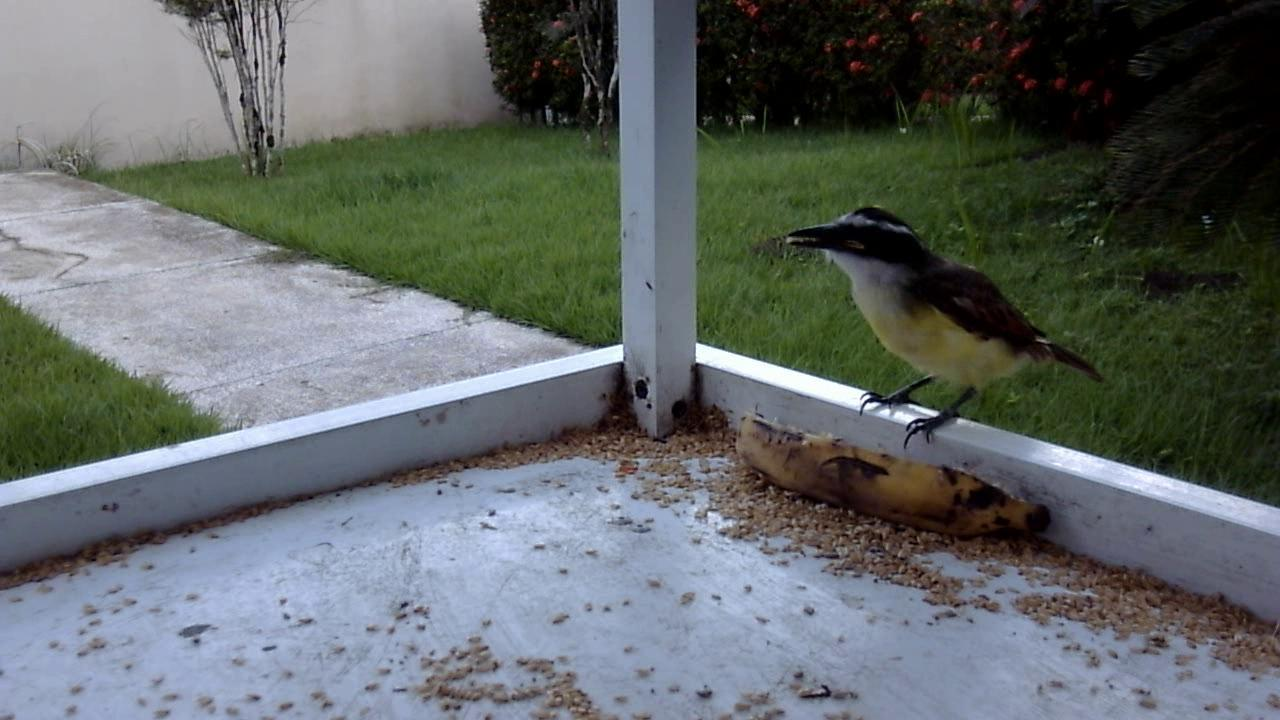bem_te_vi: (757, 194, 1108, 471)
